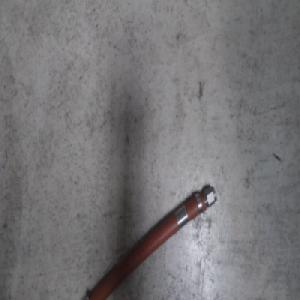Hose: (71, 180, 218, 300)
